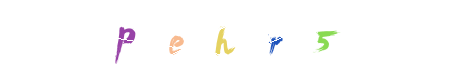5: (285, 0, 365, 80)
E: (172, 0, 252, 80)
H: (198, 0, 278, 80)
P: (91, 0, 171, 80)
R: (235, 0, 315, 80)
